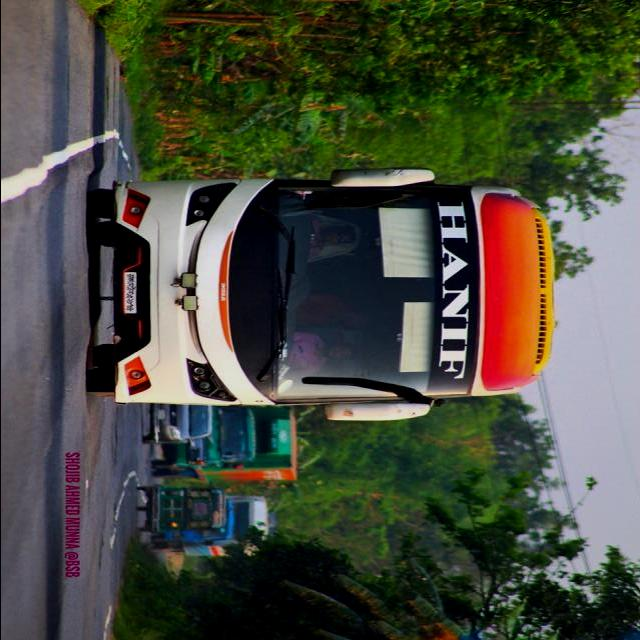bus: (85, 168, 556, 426)
